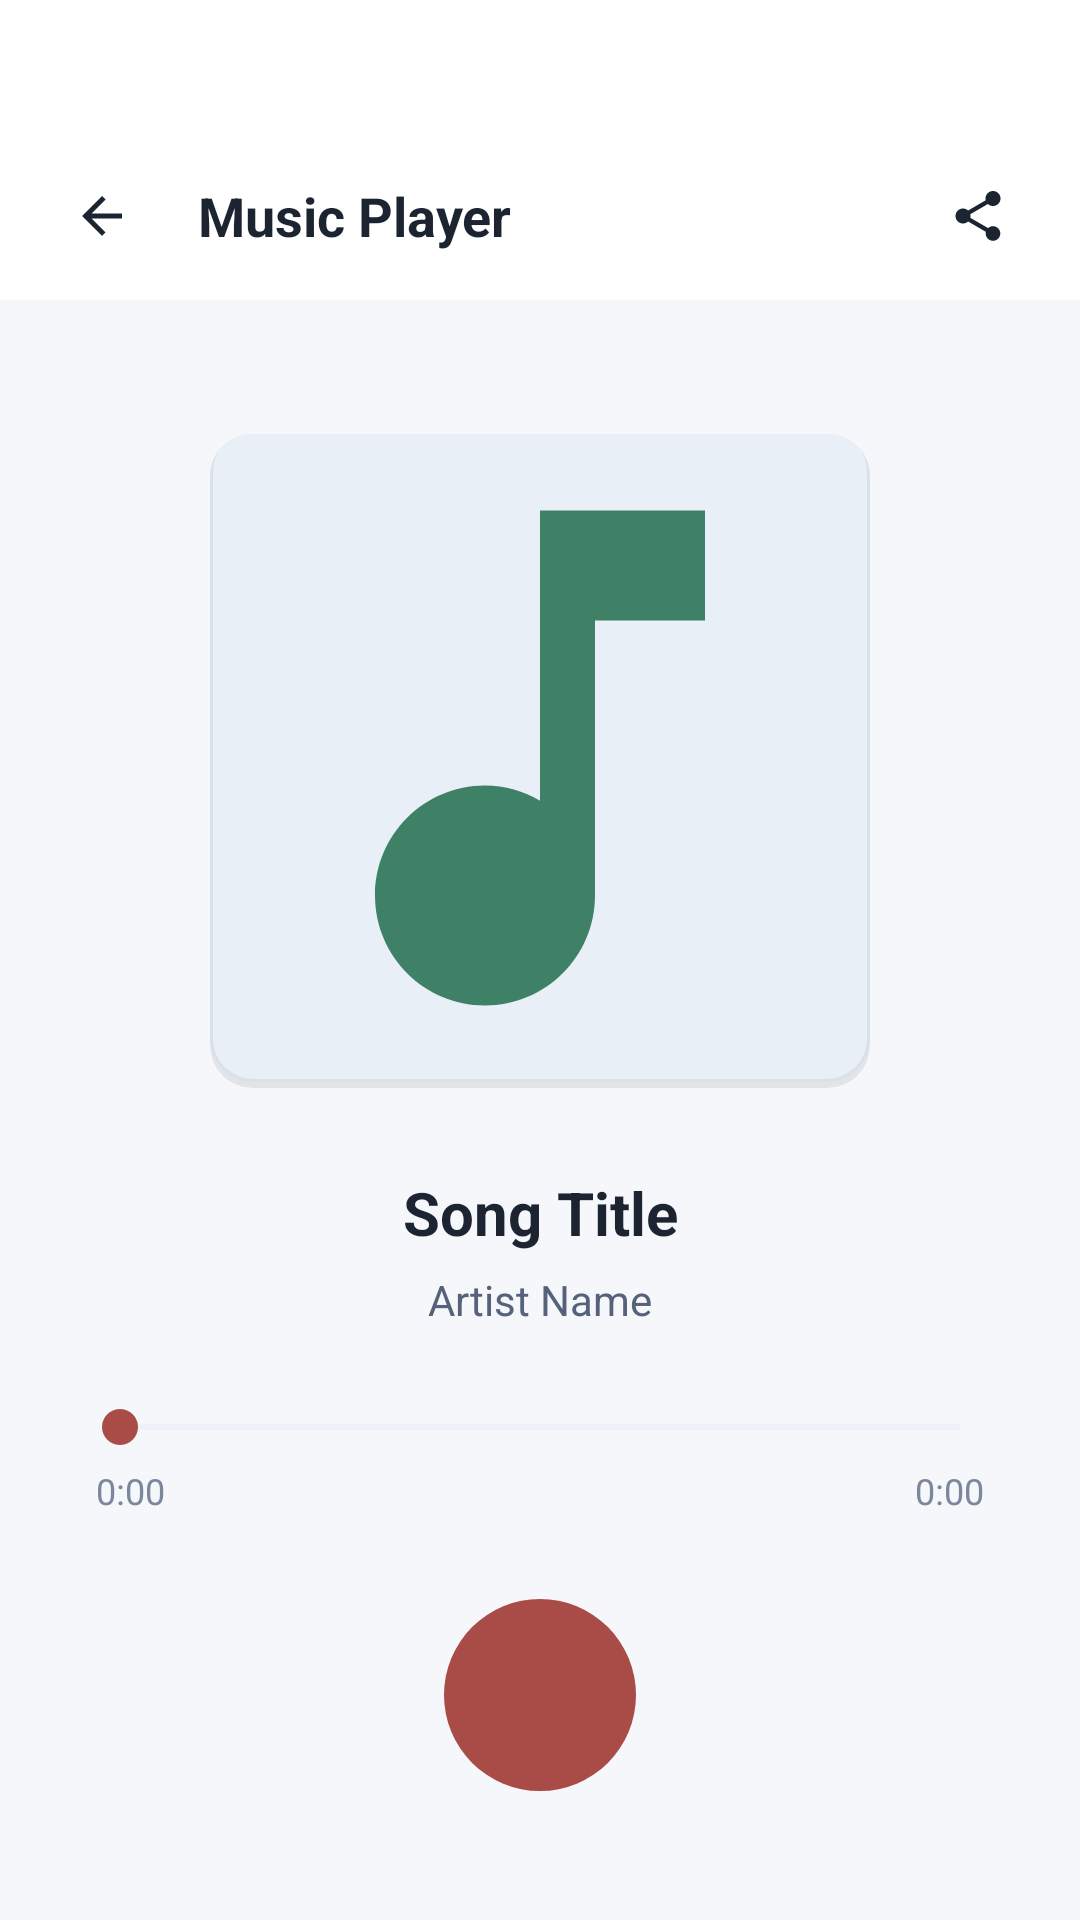

Where to tap for icons on this 1080px x 1920px app screen, as (x,y):
Back: (102,216)
Share: (978,216)
